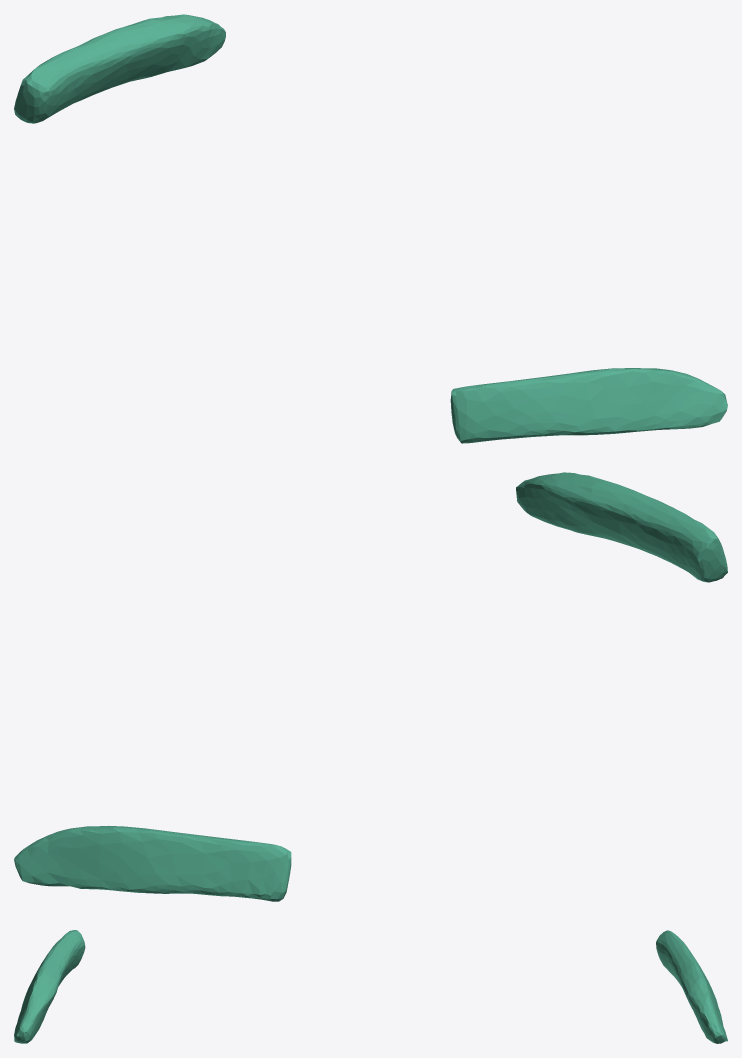
3 views of the same model, one above another, from view 1: azimuth 30°, elevation 25°; view 2: azimuth 150°, elevation 25°; view 3: azimuth 270°, elevation 25° (orthographic). The views are drawn at different scales.
Visible parts, largest first — view 1: 314.obj; view 2: 314.obj; view 3: 314.obj.
Part boxes in pixels (bbox=[...]): 314.obj: bbox=[14, 14, 727, 443]; 314.obj: bbox=[14, 472, 727, 901]; 314.obj: bbox=[14, 930, 727, 1043].
Size of the model in its own units: 2245 by 568 by 8349.
